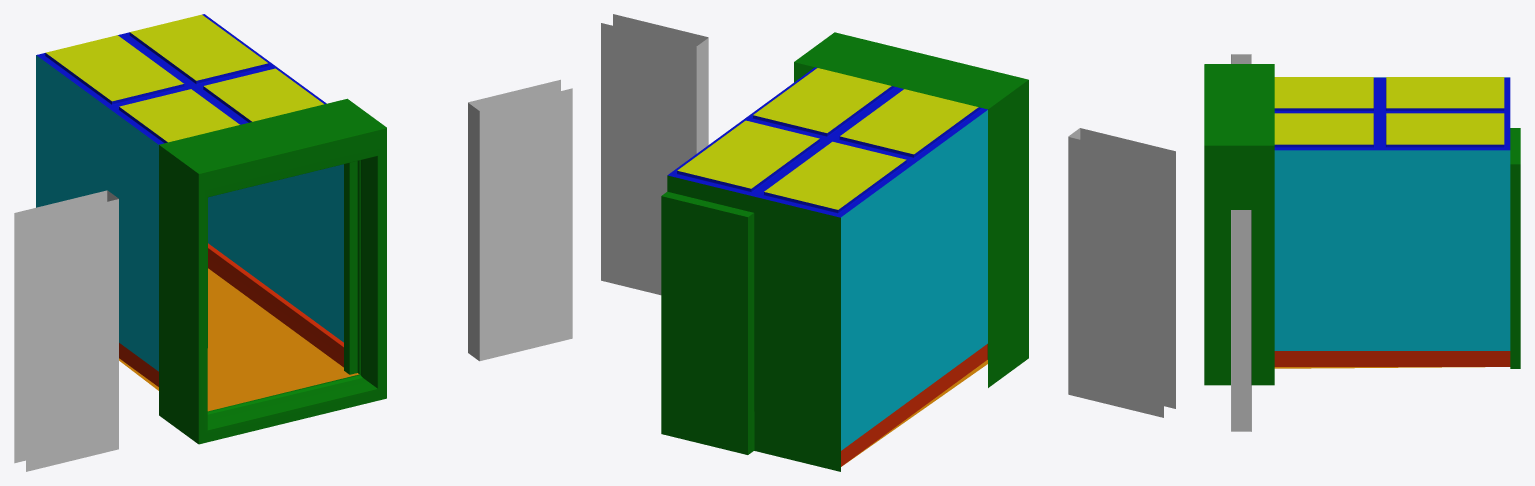
Rendered from SM_Ascenseur.fbx.
The picture shows the model from 3 angles, left to right: view 1: azimuth 30°, elevation 25°; view 2: azimuth 150°, elevation 25°; view 3: azimuth 270°, elevation 25°; orthographic projection. The views are drawn at different scales.
Visible parts, largest first — view 1: Ascenseur, Porte1, Porte2; view 2: Ascenseur, Porte2, Porte1; view 3: Ascenseur, Porte1.
Part boxes in pixels (x1,y1,x2,y2): Ascenseur: [36, 14, 386, 444]; Porte1: [468, 79, 572, 361]; Porte2: [14, 190, 118, 471]; Ascenseur: [661, 32, 1028, 471]; Porte2: [1068, 128, 1175, 417]; Porte1: [601, 14, 708, 295]; Ascenseur: [1204, 64, 1520, 385]; Porte1: [1231, 210, 1251, 431].
Bounding box in the file's own units: 270 × 128 × 153.
